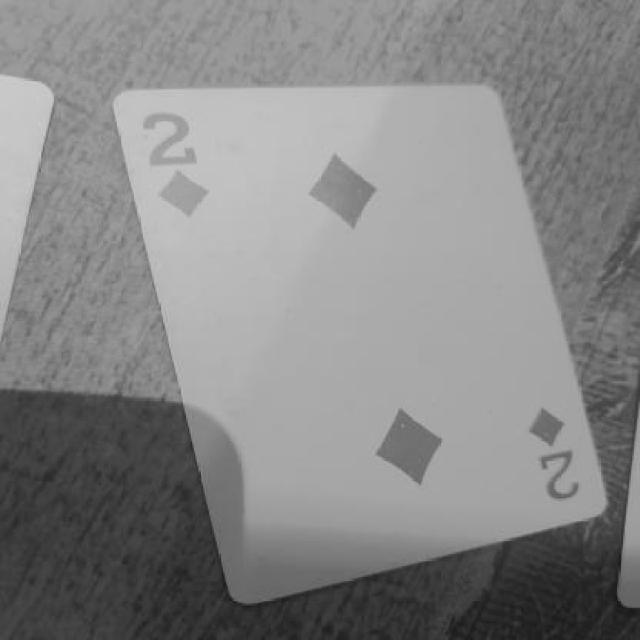2D: (148, 107, 255, 230), (513, 388, 598, 508)
